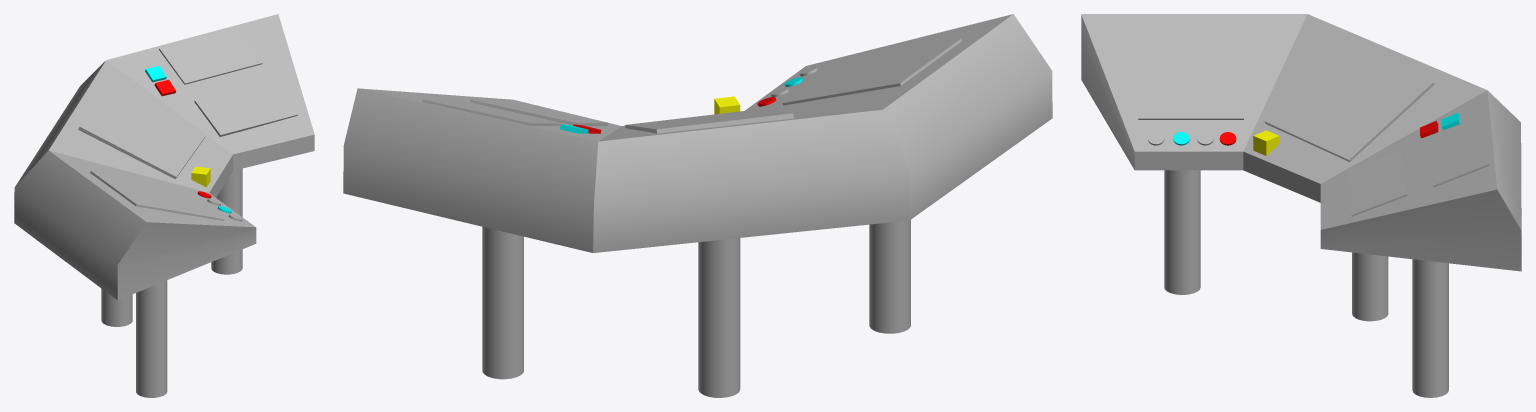
The model's file is Arrival Console.fbx.
The picture shows the model from 3 angles, left to right: view 1: azimuth 30°, elevation 25°; view 2: azimuth 150°, elevation 25°; view 3: azimuth 270°, elevation 25°; orthographic projection. The views are drawn at different scales.
Visible parts, largest first — view 1: pCube15; view 2: pCube15; view 3: pCube15.
Boxes of the visible parts, bbox=[...] form: pCube15: bbox=[14, 14, 314, 397]; pCube15: bbox=[343, 14, 1052, 397]; pCube15: bbox=[1081, 14, 1521, 397].
Bounding box in the file's own units: 7.36 × 4.4 × 7.14.
